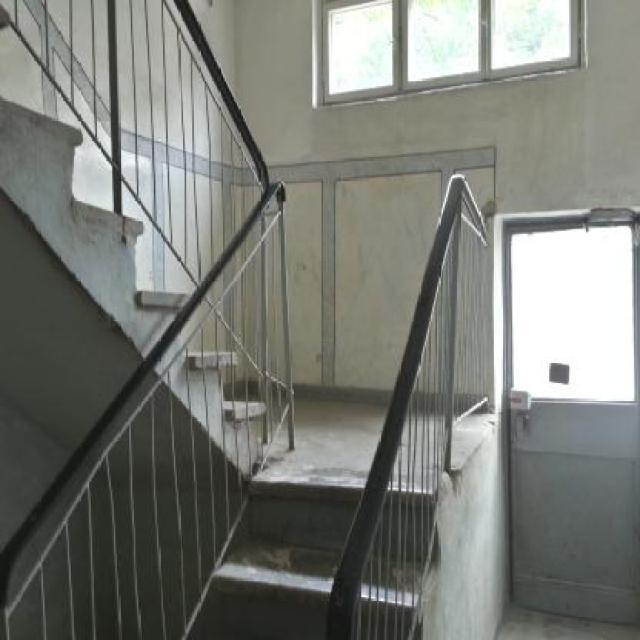stair: (2, 0, 296, 425), (175, 432, 503, 640)
